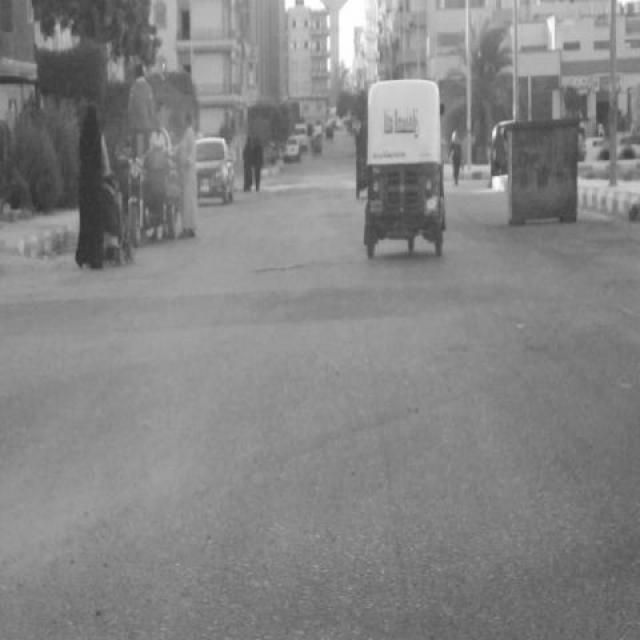Unmarked Bump: (0, 272, 602, 334)
